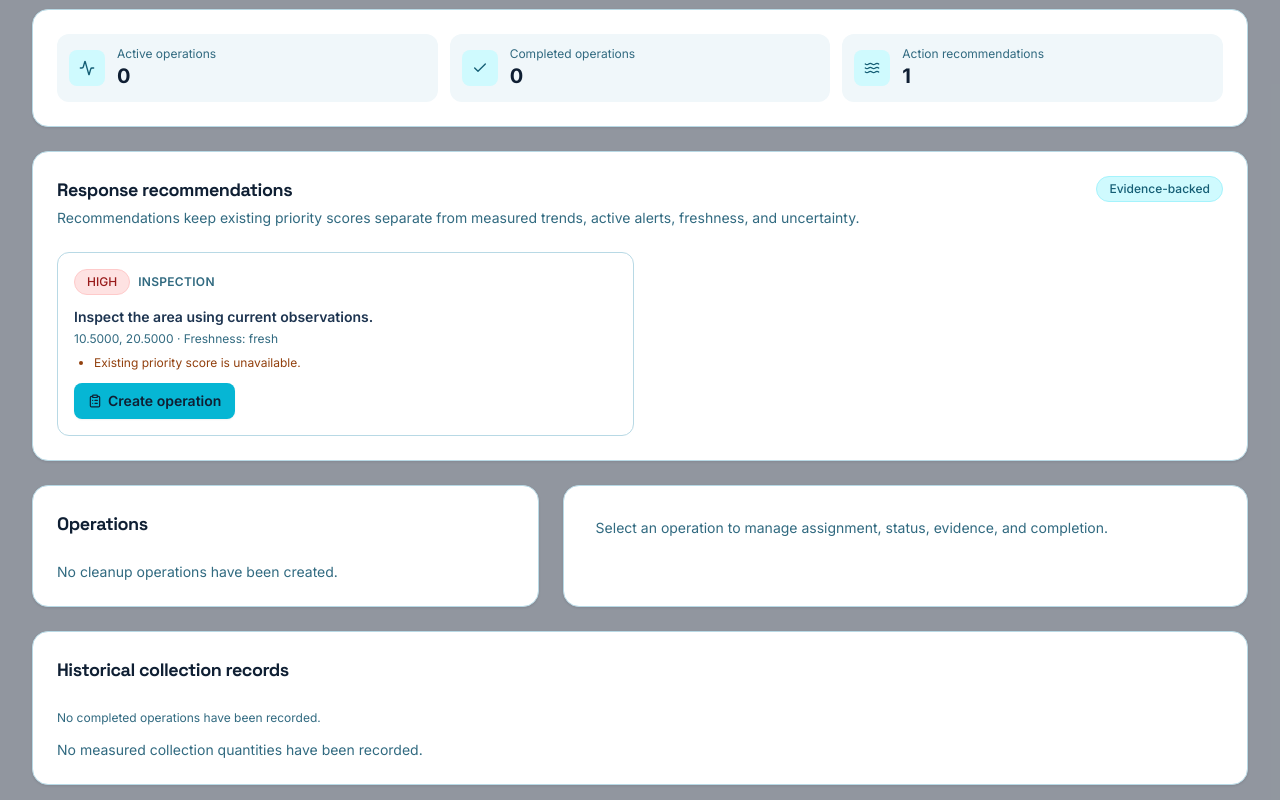
Test: CleanupOperationsPage › creates an operation from an evidence-backed recommendation
The image size is (1280, 800).
(page scrolled)
Expected: the text "Inspect the area using current observations." is shown, left=74, top=308, right=373, bottom=324
Step 1. Click the button "Create operation" → (155, 400), box left=74, top=382, right=235, bottom=418
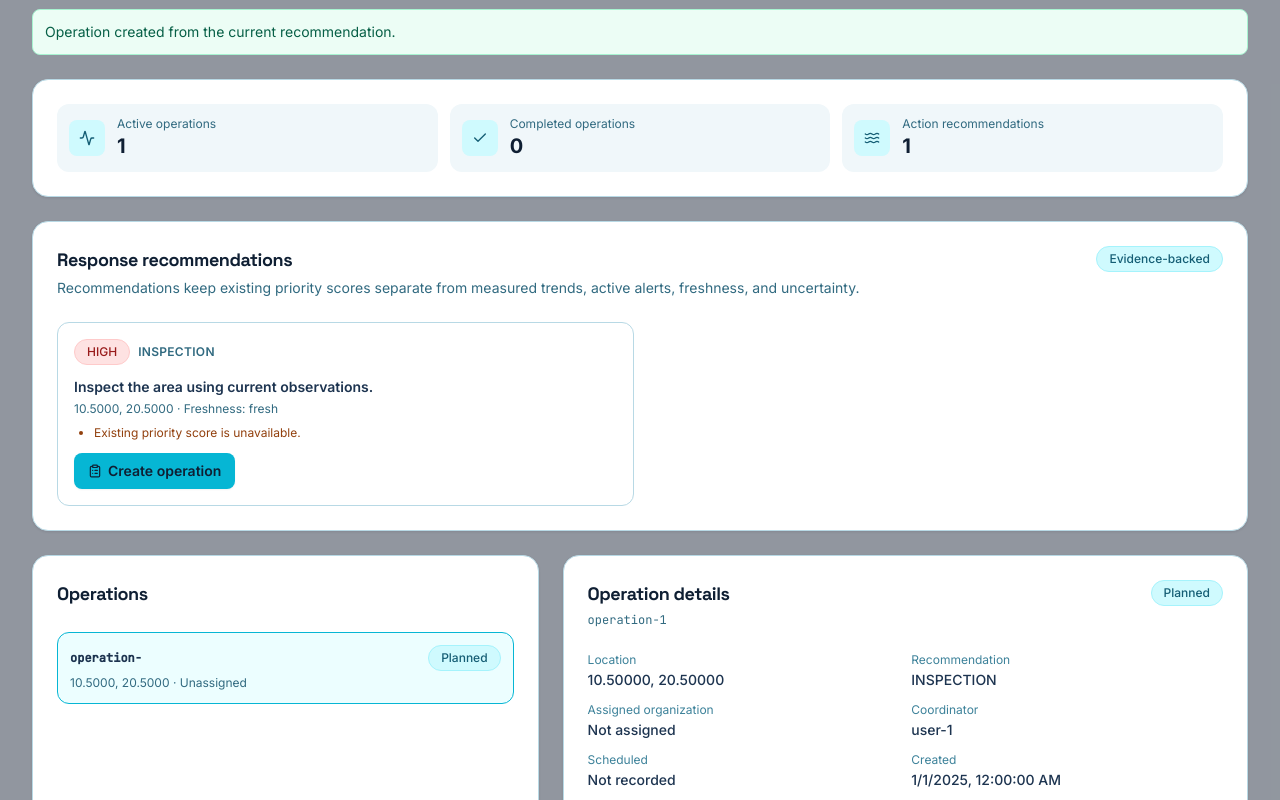
Expected: the text "Operation created from the current recommendation." is shown, left=32, top=8, right=1248, bottom=54
